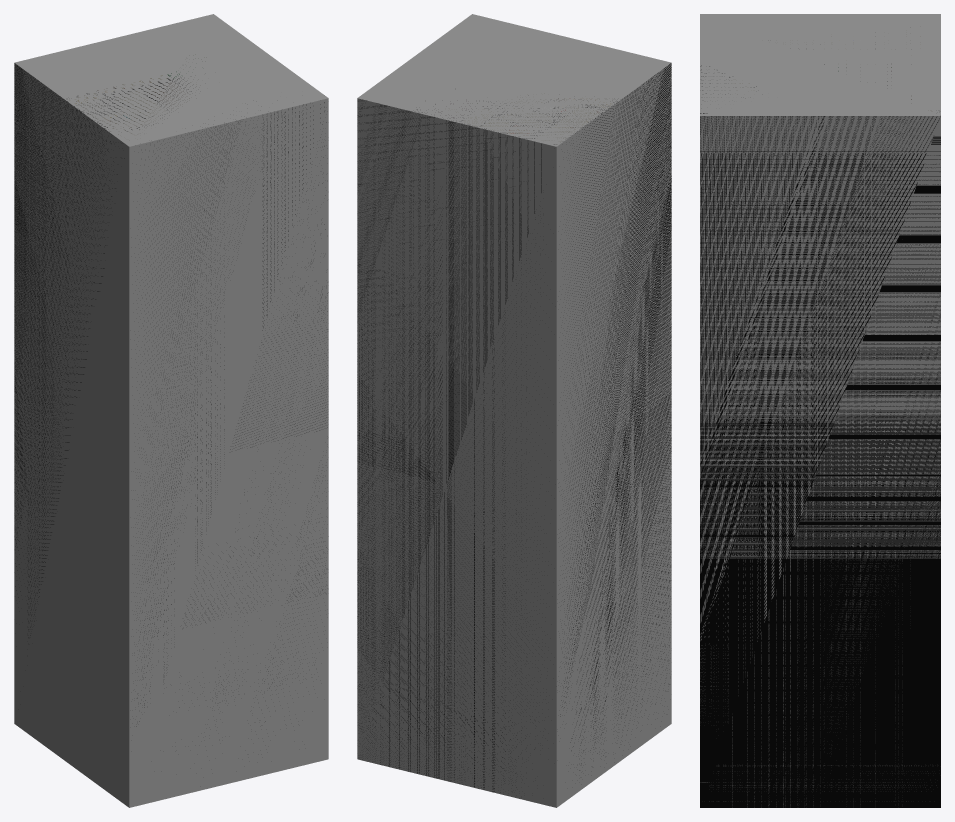
The model's file is bottle_04.FBX.
3 renders of one model, left to right at view 1: azimuth 30°, elevation 25°; view 2: azimuth 150°, elevation 25°; view 3: azimuth 270°, elevation 25°, orthographic. The views are drawn at different scales.
Visible parts, largest first — view 1: bounds, colbox-1; view 2: bounds, colbox-1; view 3: colbox-1, bounds.
Part boxes in pixels (<box>): bounds: <box>14,14,328,807</box>; colbox-1: <box>14,63,328,726</box>; bounds: <box>357,14,671,807</box>; colbox-1: <box>357,63,671,792</box>; colbox-1: <box>700,44,940,807</box>; bounds: <box>700,14,940,807</box>.
Bounding box in the file's own units: 10.76 × 34.08 × 10.75.
